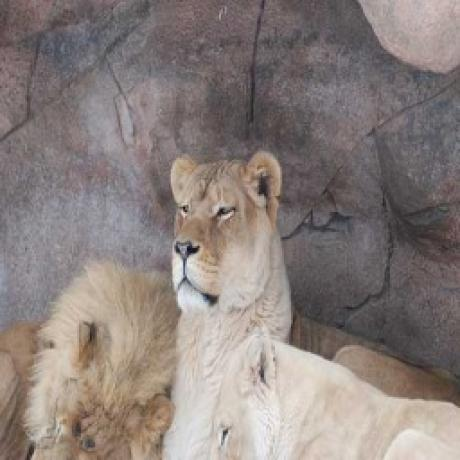Lion: (163, 147, 460, 460)
